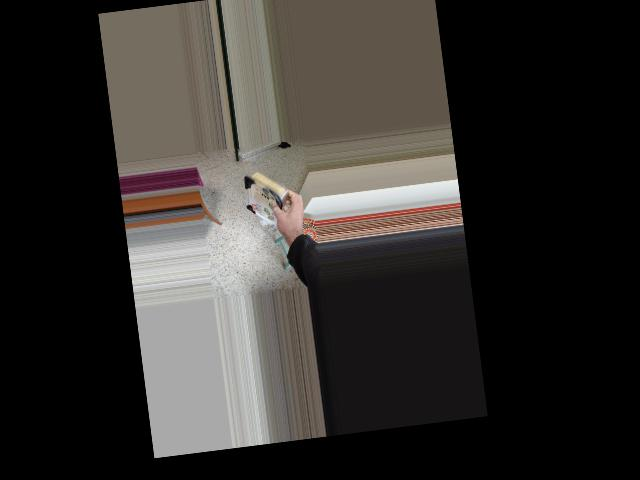cheese: (224, 153, 308, 227)
